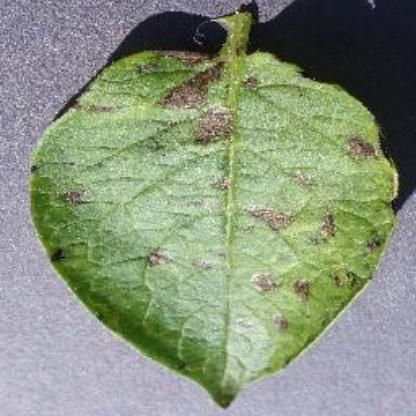Early-Blight: (28, 5, 416, 412)
